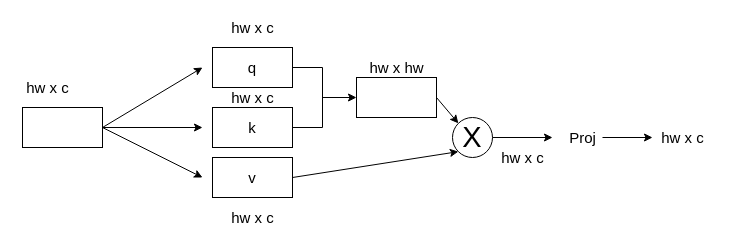
Some shapes in this 729 by 244 pixel diagram are drawn without their labels. Each missing label, with the box of its shape:
Attention: (356, 76, 436, 118)
tensor: (22, 106, 102, 148)
